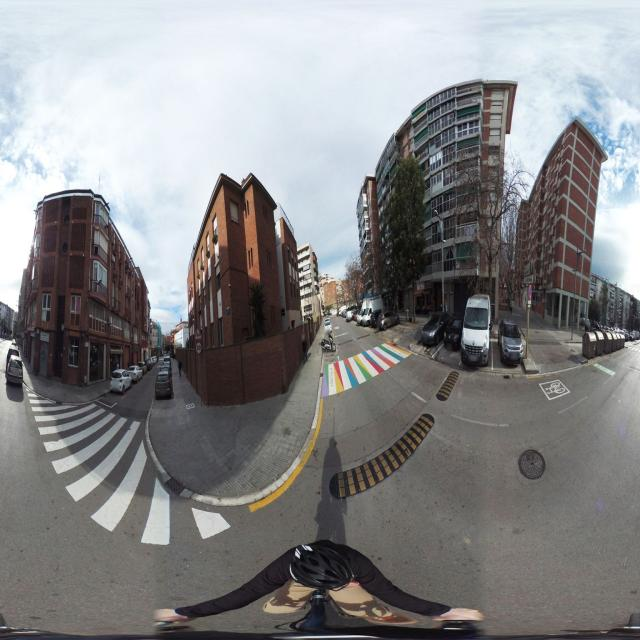forb_stopping: (529, 286, 532, 300)
